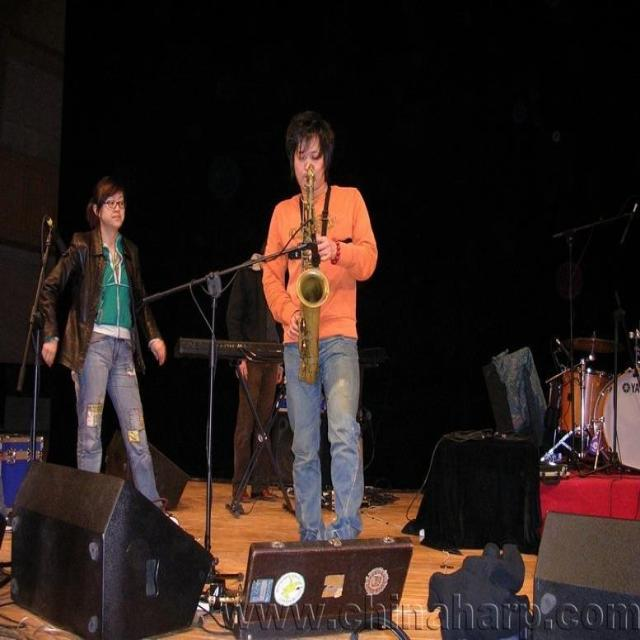drums: (549, 326, 640, 475)
saxophone: (294, 170, 330, 392)
